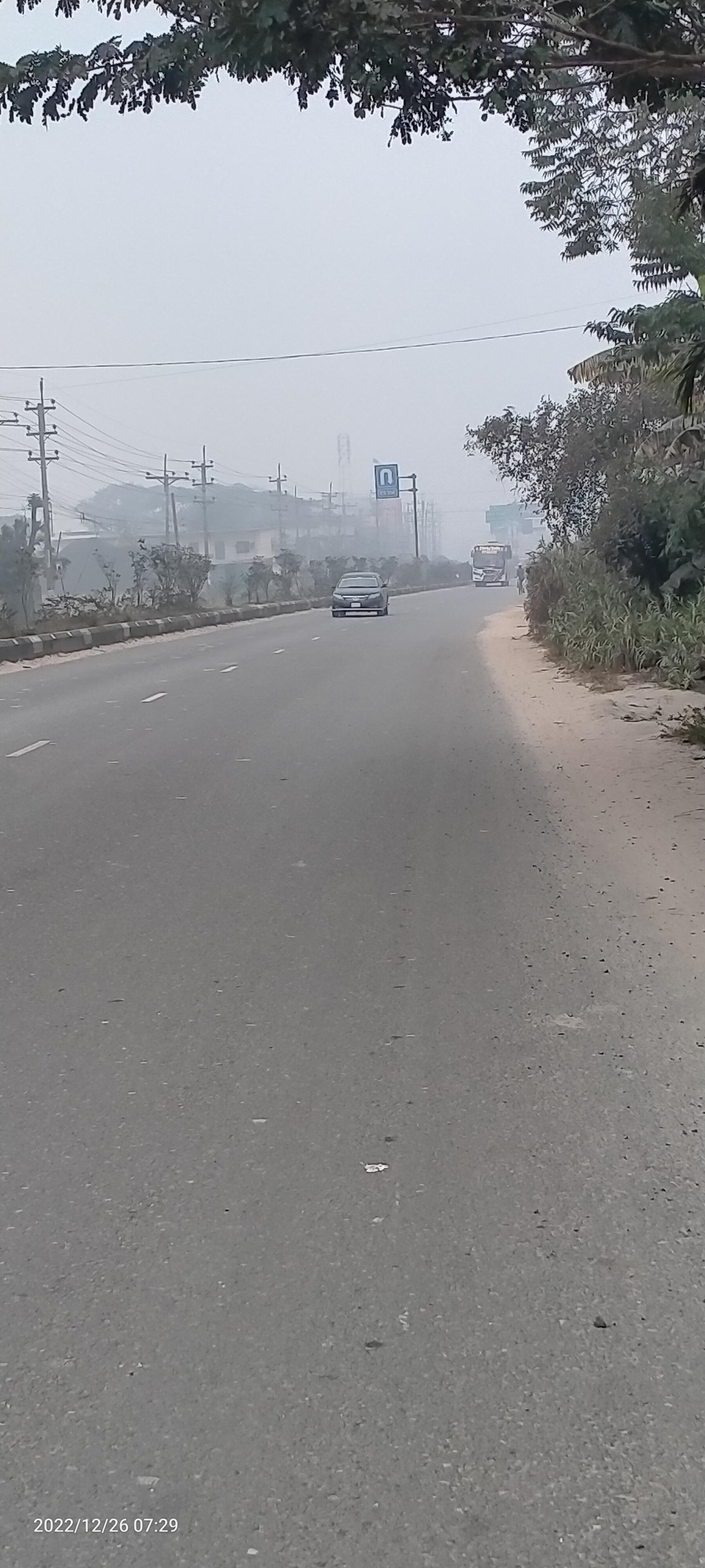Bus: (458, 531, 515, 596)
Car: (313, 562, 400, 625)
